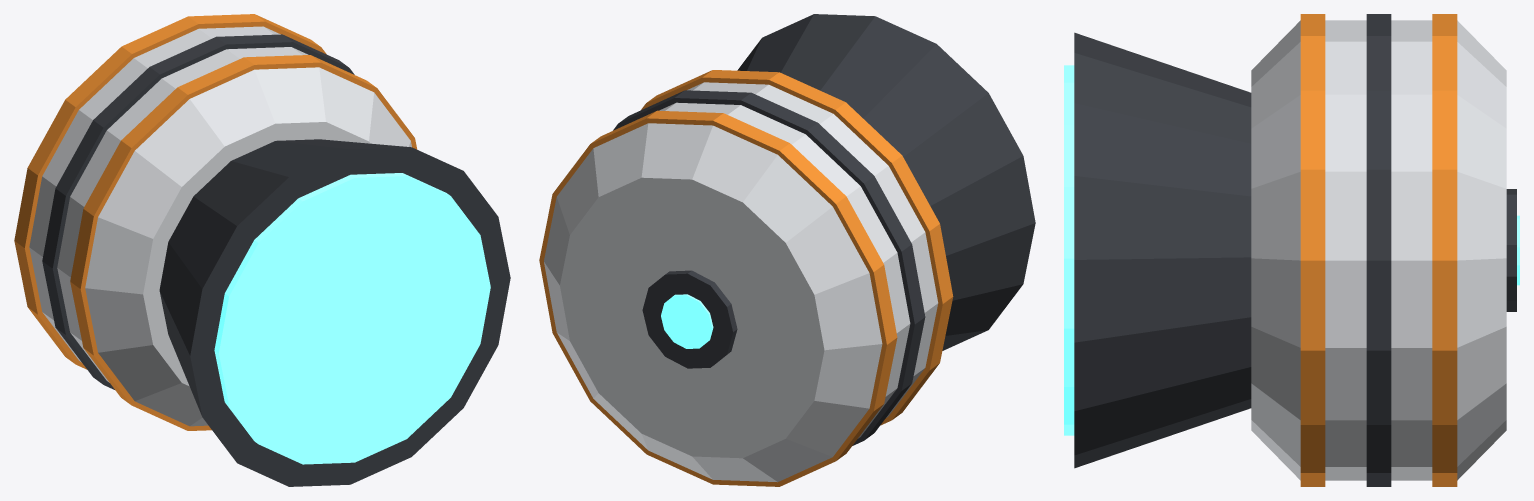
Rendered from thruster_large.glb.
3 renders of one model, left to right at view 1: azimuth 30°, elevation 25°; view 2: azimuth 150°, elevation 25°; view 3: azimuth 270°, elevation 25°, orthographic. The views are drawn at different scales.
Parts seen in each view (by area): view 1: thruster_large; view 2: thruster_large; view 3: thruster_large.
Part boxes in pixels (x1,y1,x2,y2): thruster_large: (14,14,510,486); thruster_large: (539,14,1035,486); thruster_large: (1064,14,1519,486).
Bounding box in the file's own units: 1.15 × 1.15 × 1.11.
